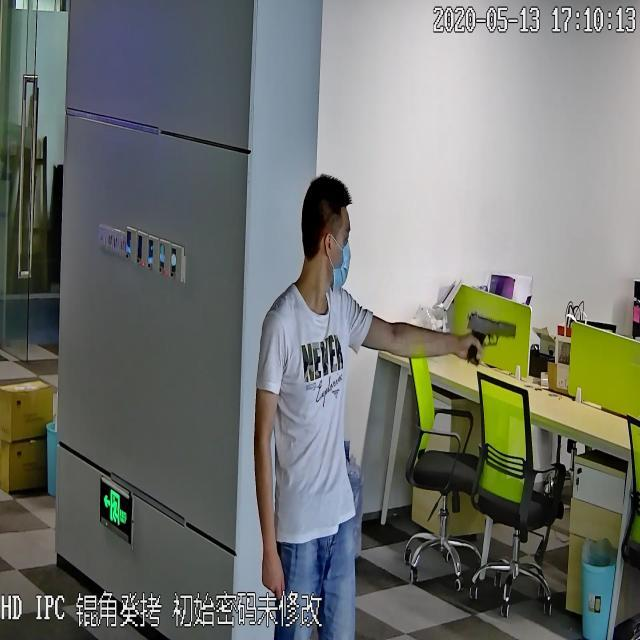gun: (463, 306, 517, 370)
